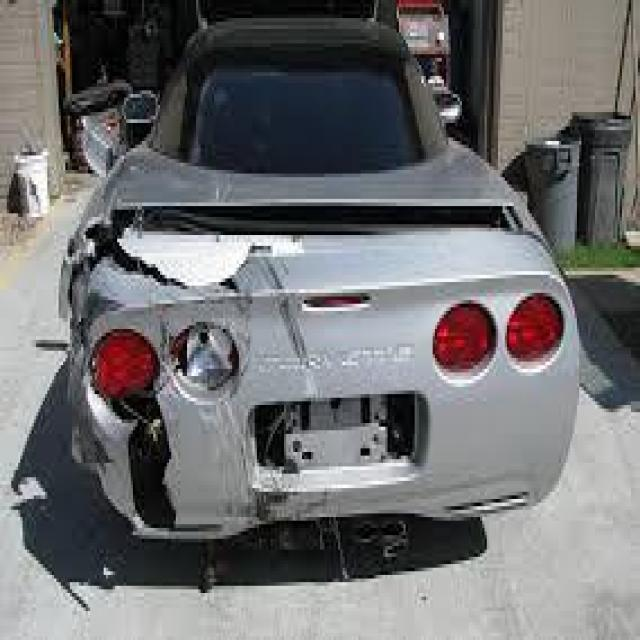damaged: (58, 180, 420, 550)
